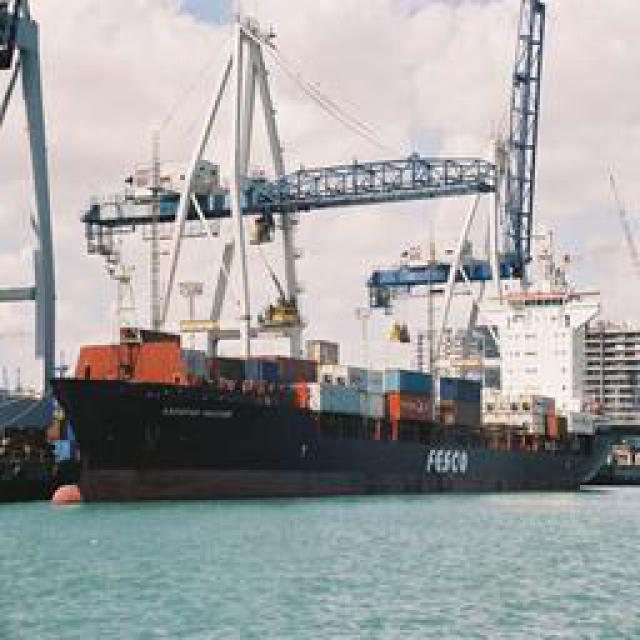Ship: (53, 1, 627, 494)
